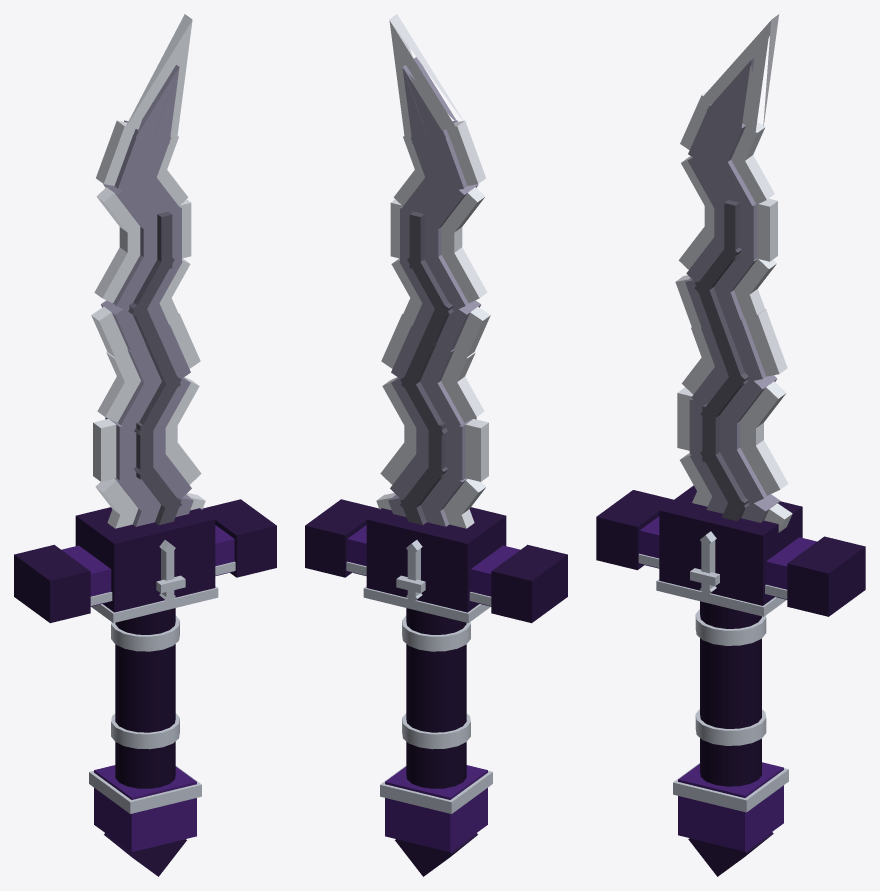
3 renders of one model, left to right at view 1: azimuth 30°, elevation 25°; view 2: azimuth 150°, elevation 25°; view 3: azimuth 330°, elevation 25°, orthographic. The views are drawn at different scales.
Parts seen in each view (by area): view 1: phantom-kris; view 2: phantom-kris; view 3: phantom-kris.
Part boxes in pixels (bbox=[...]): phantom-kris: bbox=[14, 14, 276, 876]; phantom-kris: bbox=[305, 14, 567, 876]; phantom-kris: bbox=[596, 14, 865, 876].
Bounding box in the file's own units: 0.1574 × 0.5568 × 0.0666.
